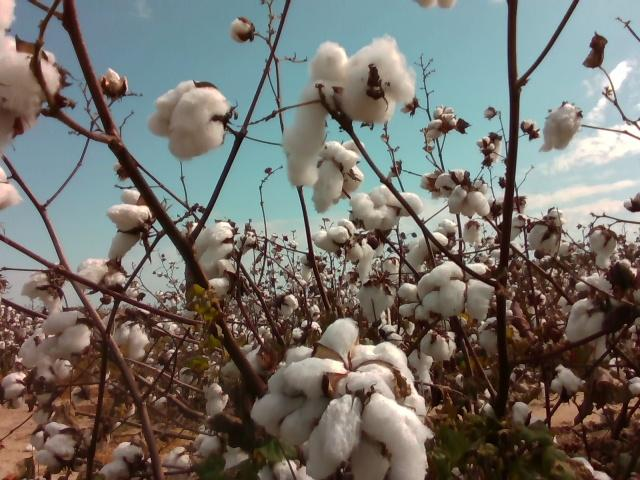cotton_ready: (252, 317, 435, 480), (284, 38, 414, 189), (0, 0, 61, 147), (149, 81, 230, 162), (420, 261, 496, 318), (310, 139, 365, 215), (108, 189, 158, 265), (30, 309, 92, 362), (348, 188, 426, 229), (565, 276, 610, 341), (359, 257, 401, 324), (435, 168, 491, 215), (193, 219, 236, 279), (100, 315, 150, 362), (312, 219, 369, 259), (33, 422, 80, 467), (21, 270, 66, 314), (540, 105, 581, 152), (417, 214, 458, 260), (101, 442, 145, 480), (528, 211, 566, 255), (75, 258, 129, 287), (207, 260, 244, 298), (398, 280, 428, 316), (0, 165, 21, 211), (585, 229, 619, 256)
